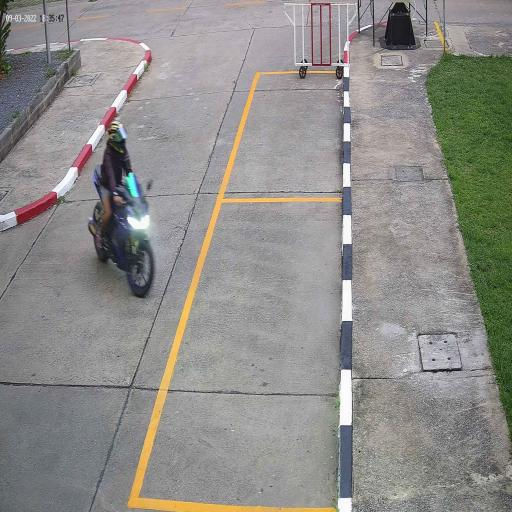motorcycle: (87, 172, 156, 299)
